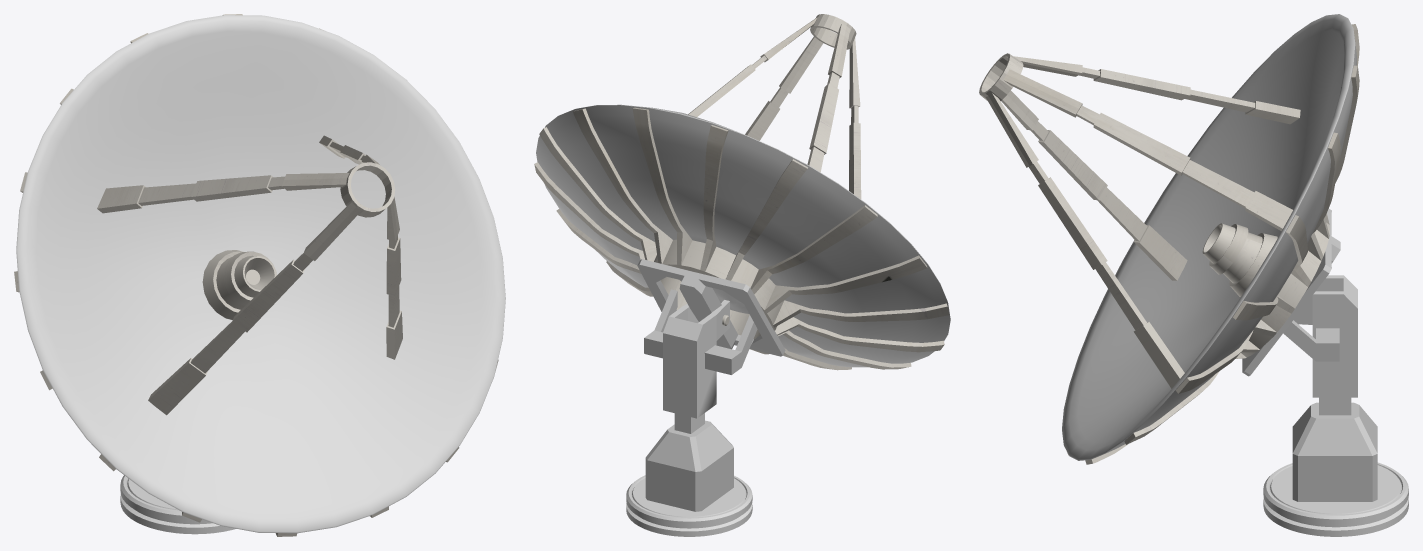
File: KB3D_CBP_Antenna_S.fbx
The picture shows the model from 3 angles, left to right: view 1: azimuth 30°, elevation 25°; view 2: azimuth 150°, elevation 25°; view 3: azimuth 270°, elevation 25°; orthographic projection. The views are drawn at different scales.
Parts seen in each view (by area): view 1: KB3D_CBP_Antenna_S_Main; view 2: KB3D_CBP_Antenna_S_Main; view 3: KB3D_CBP_Antenna_S_Main.
Boxes of the visible parts, box(x1,y1,x2,y2) form: KB3D_CBP_Antenna_S_Main: box(14, 14, 505, 536); KB3D_CBP_Antenna_S_Main: box(534, 14, 950, 536); KB3D_CBP_Antenna_S_Main: box(979, 14, 1408, 536).
Size of the model in its own units: 213 by 207 by 174.
